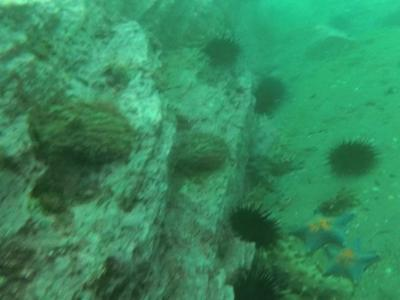holothurian: (255, 240, 354, 296)
urchin: (228, 199, 283, 252), (226, 265, 286, 297), (329, 139, 377, 177), (255, 74, 281, 117), (204, 34, 235, 69)
